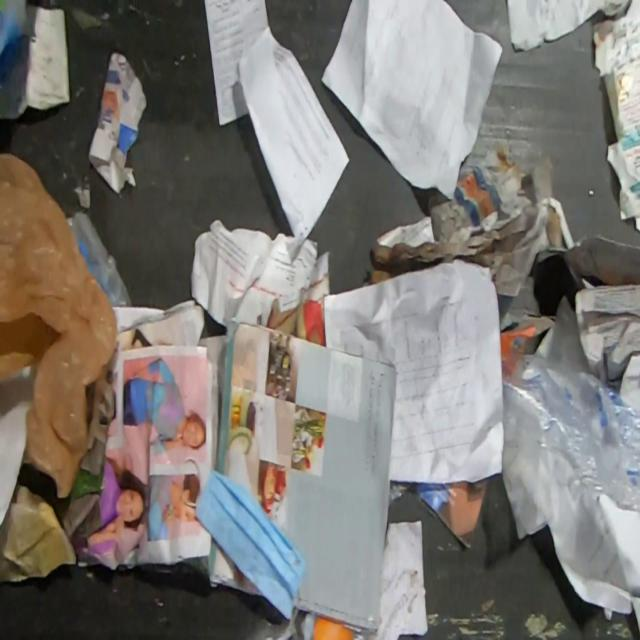cardboard: (0, 482, 77, 584), (498, 276, 556, 358)
soft_plastic: (0, 150, 119, 503), (502, 293, 639, 522), (66, 212, 133, 310)
